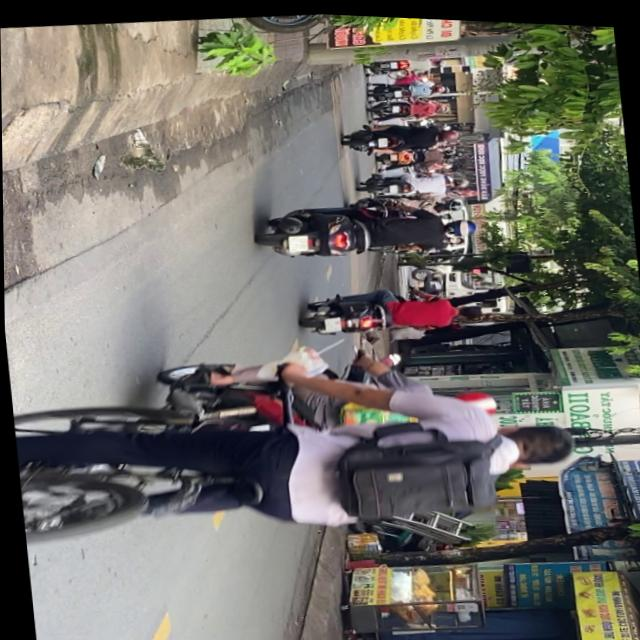helmet: (445, 212, 479, 234)
licenseplate: (252, 184, 483, 268), (297, 274, 485, 342)
motorcyclist: (453, 298, 482, 317)
nohelmet: (287, 231, 308, 250), (324, 313, 341, 328)
